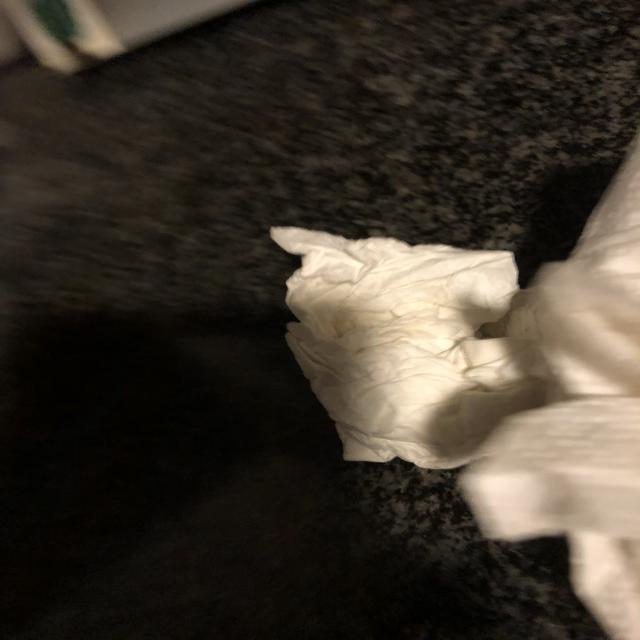kitchen paper: (262, 216, 550, 476)
